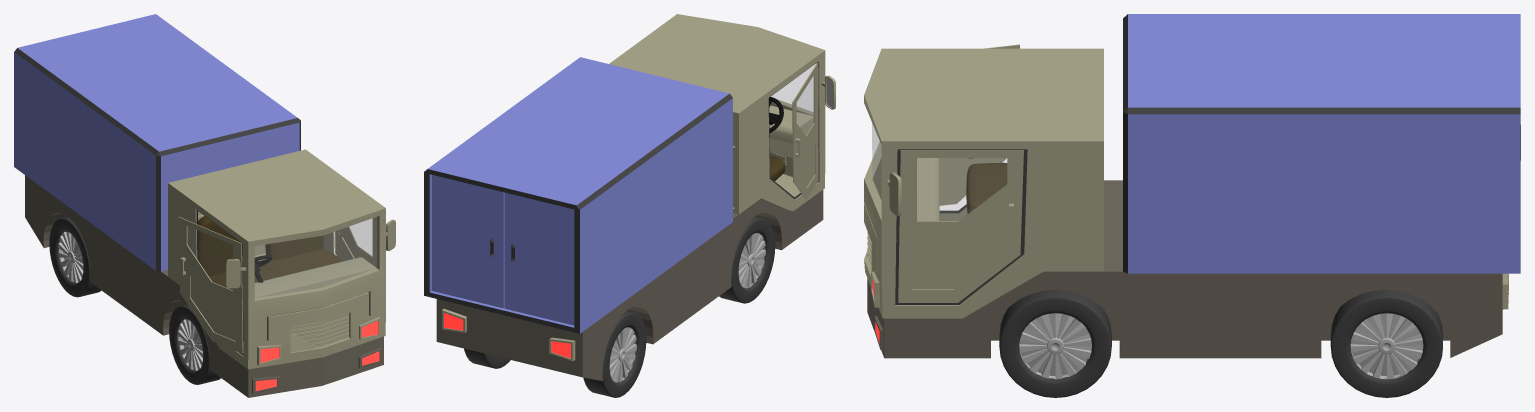
The model's file is 3d_truck__model.glb.
3 renders of one model, left to right at view 1: azimuth 30°, elevation 25°; view 2: azimuth 150°, elevation 25°; view 3: azimuth 270°, elevation 25°, orthographic. The views are drawn at different scales.
Parts seen in each view (by area): view 1: cube, front, down, Right Door, Cube.006, Back wheel, frontwheel, Left Door; view 2: cube, front, down, Back wheel, frontwheel, Right Door; view 3: cube, front, down, Left Door, frontwheel, Back wheel, Right Door, Cube.006.
Part boxes in pixels (<box>): cube: <box>14,14,300,271</box>; front: <box>168,149,395,369</box>; down: <box>25,175,383,397</box>; Right Door: <box>178,217,243,353</box>; Cube.006: <box>198,216,343,290</box>; Back wheel: <box>49,216,101,297</box>; frontwheel: <box>169,304,220,384</box>; Left Door: <box>334,217,376,267</box>; cube: <box>424,57,732,333</box>; front: <box>609,14,835,214</box>; down: <box>436,190,823,380</box>; Back wheel: <box>464,311,646,397</box>; frontwheel: <box>719,216,775,303</box>; Right Door: <box>792,63,818,199</box>; cube: <box>1123,14,1520,273</box>; front: <box>864,48,1103,318</box>; down: <box>867,180,1508,358</box>; Left Door: <box>898,150,1023,302</box>; frontwheel: <box>999,289,1111,397</box>; Back wheel: <box>1330,289,1442,397</box>; Right Door: <box>939,44,1019,205</box>; Cube.006: <box>966,162,1007,213</box>.
Size of the model in its own units: 2.31 by 2.67 by 5.4.
